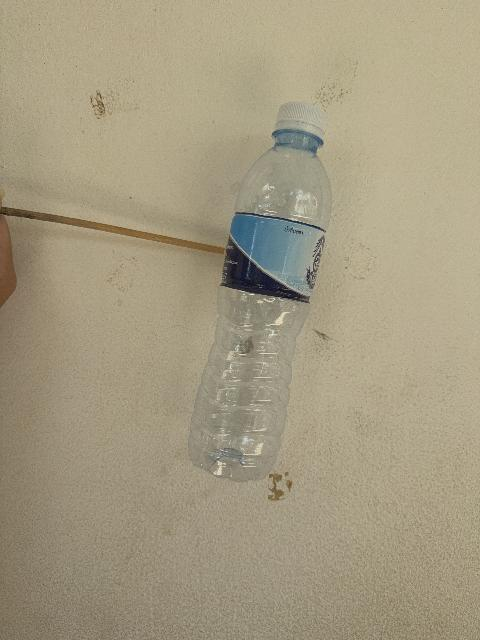bottle: (189, 103, 331, 481)
